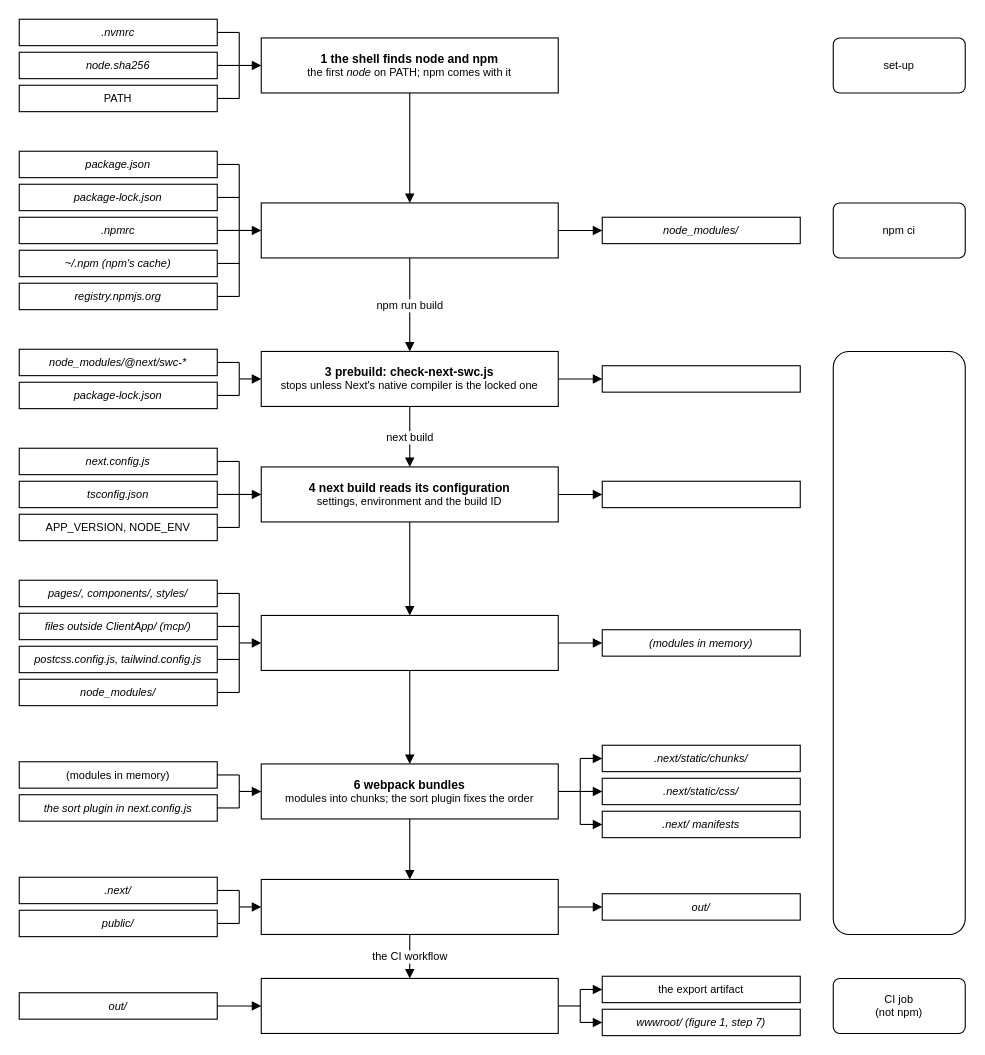
The diagram is 985 pixels wide and 1055 high, and some of its shapes have lost their labels. Here are the shapes that lost their labels. From the top down, the centre of each, then its label:
At [409,230]: "2 npm ci installs exactly the lock file, without install scripts".
At [700,378]: "(go on, or stop)".
At [700,494]: "the build ID".
At [409,642]: "5 SWC and PostCSS compile TypeScript and JSX to JavaScript; Tailwind to CSS".
At [898,642]: "npm run build steps 3 to 7".
At [409,906]: "7 Next exports the static site renders every page to HTML, copies public/".
At [409,1005]: "8 the CI job, after npm uploads out/ for the .NET publish".
